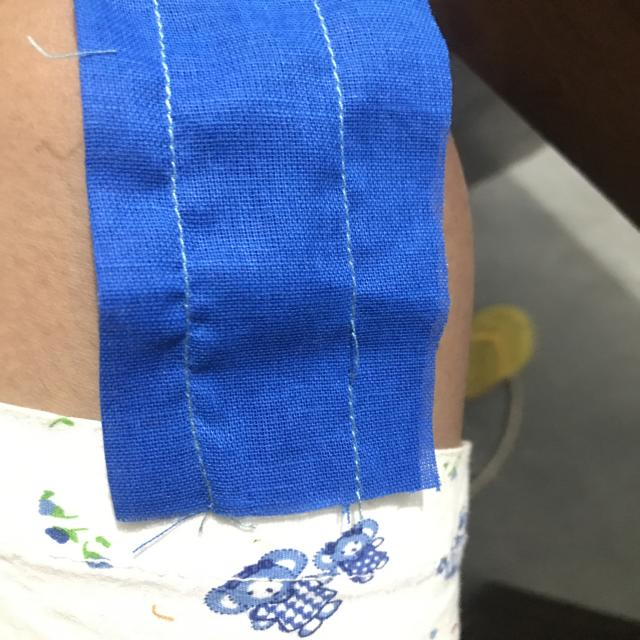good: (161, 151, 190, 245)
skip: (343, 316, 381, 385)
